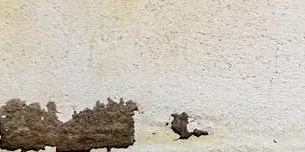Spalling: (1, 97, 139, 152), (165, 111, 209, 142)
